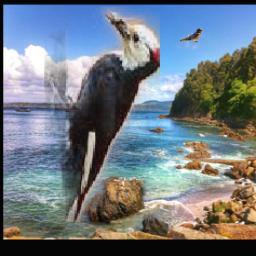Swallow: (179, 28, 202, 42)
Woodpecker: (43, 7, 159, 223)
